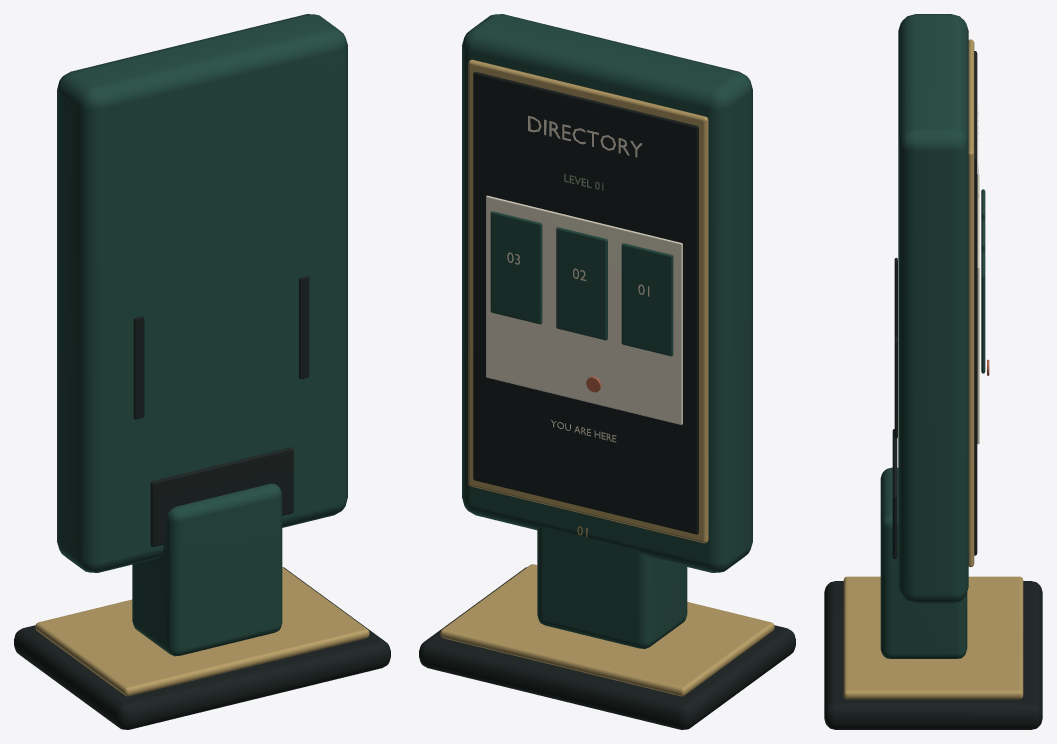
File: GJH_PUB_017.glb
3 views of the same model, side by side, from view 1: azimuth 30°, elevation 25°; view 2: azimuth 150°, elevation 25°; view 3: azimuth 270°, elevation 25° (orthographic). The views are drawn at different scales.
Parts seen in each view (by area): view 1: GJH-PUB-017_VISUAL; view 2: GJH-PUB-017_VISUAL; view 3: GJH-PUB-017_VISUAL.
Part boxes in pixels (x1,y1,x2,y2): GJH-PUB-017_VISUAL: [14, 14, 390, 729]; GJH-PUB-017_VISUAL: [419, 14, 795, 729]; GJH-PUB-017_VISUAL: [824, 14, 1042, 729].
Size of the model in its own units: 0.96 by 2.05 by 0.68.
